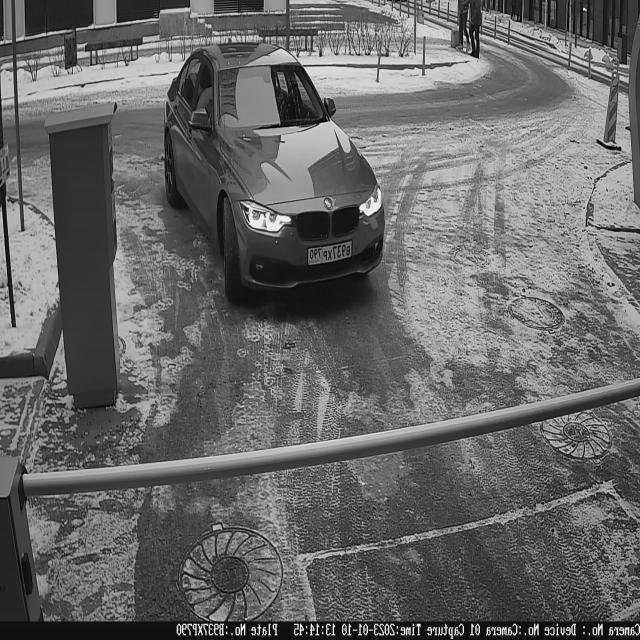car-plate-numbers: (306, 238, 356, 270)
